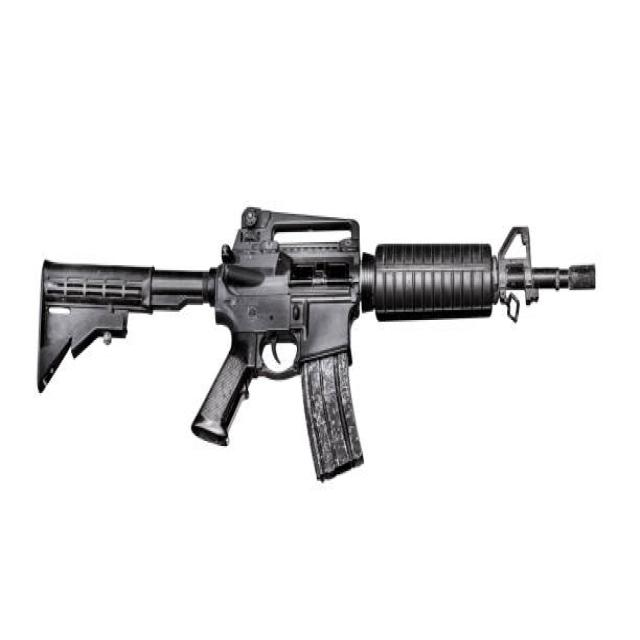rifle: (33, 206, 609, 498)
